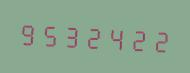five: (39, 17, 60, 51)
four: (105, 20, 126, 54)
nine: (17, 15, 38, 50)
three: (61, 18, 82, 52)
two: (83, 19, 104, 53), (127, 21, 148, 55), (149, 22, 170, 56)
